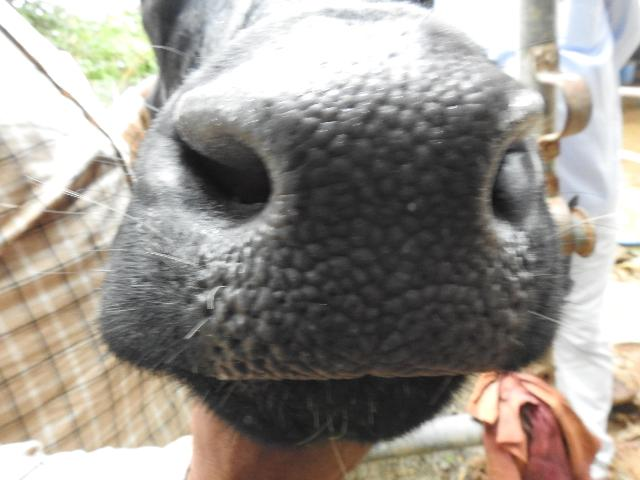Muzzle: (204, 92, 530, 362)
